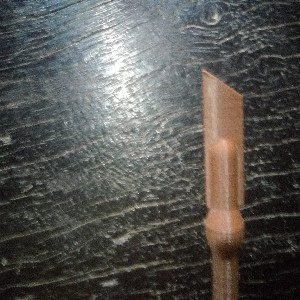cutter: (200, 68, 246, 300)
